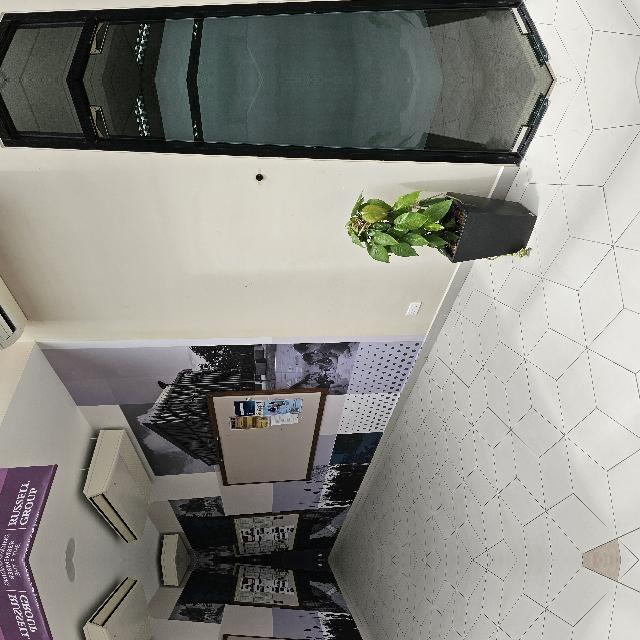obstacle: (297, 427, 383, 616), (297, 504, 383, 640)
